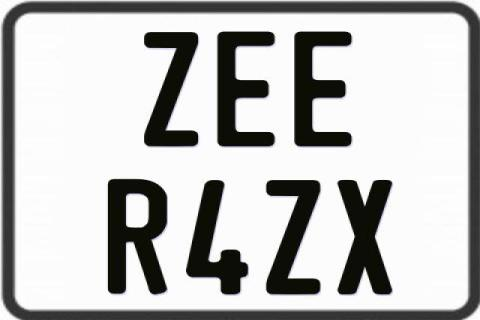0: (186, 180, 251, 295)
E: (217, 31, 278, 149), (291, 29, 351, 144)
R: (108, 177, 168, 292)
X: (338, 178, 392, 294)
Z: (266, 180, 326, 298), (144, 30, 199, 150)
